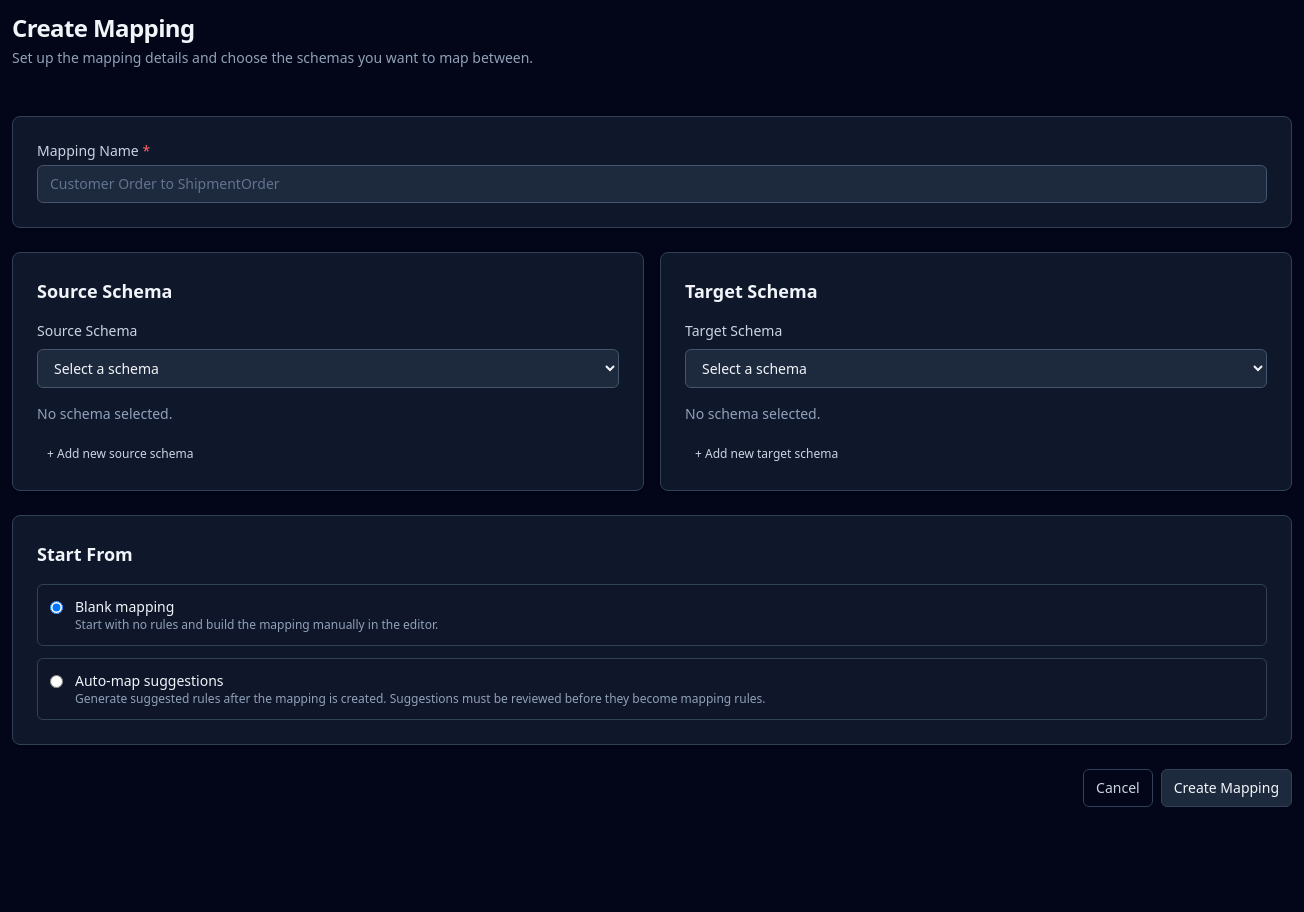
Test case: CreateMappingPage (FS-088 T-08) › AE-11: validates source and target as required fields before submit
The width and height of the screenshot is (1304, 912).
Type "Mapping With Missing Required Fields" into the field labelled "Mapping Name *". click: {"x": 652, "y": 184}
box: top-left (37, 165), bottom-right (1267, 203)
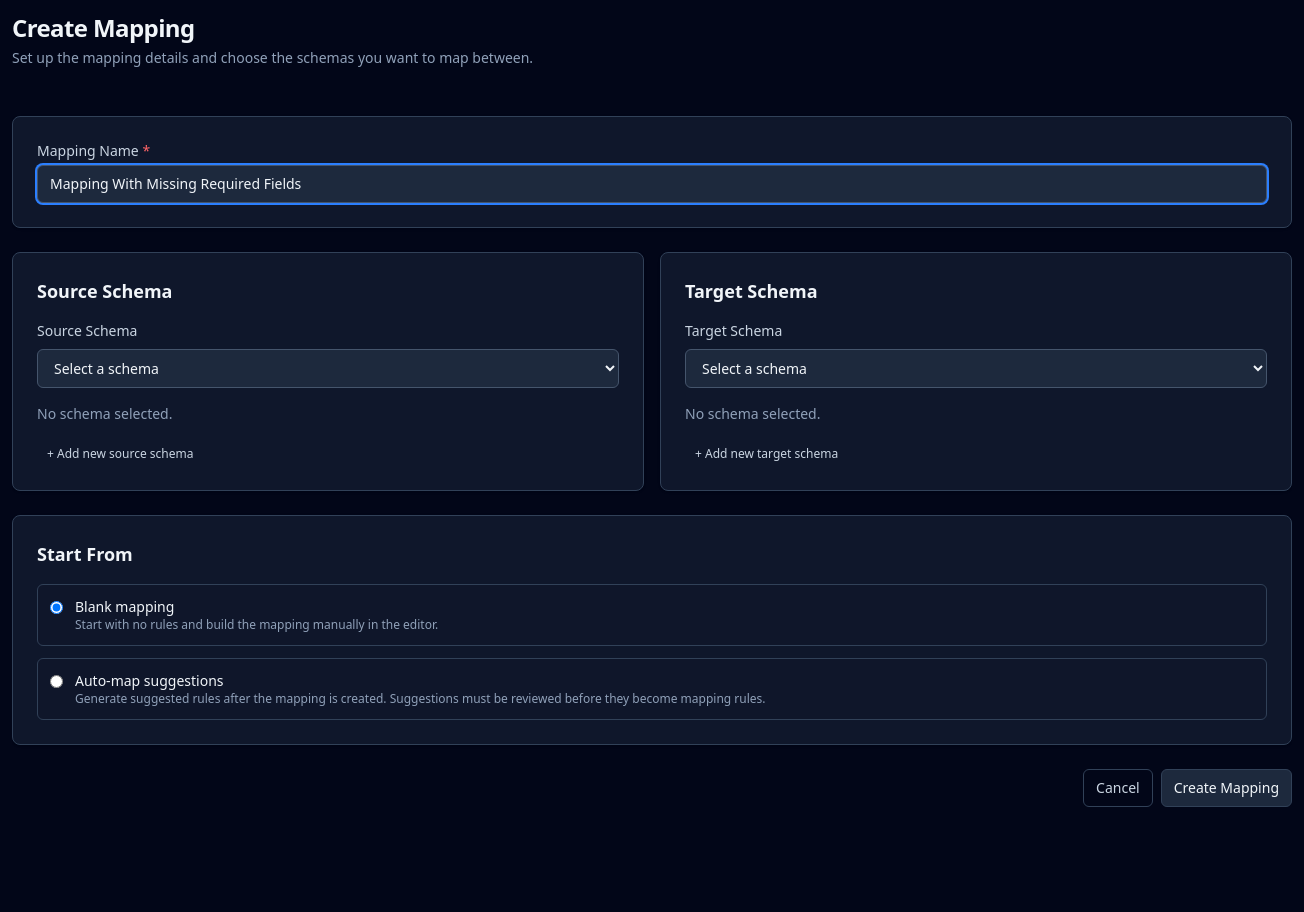
Click the button with test id "create-button". click: {"x": 1226, "y": 788}
box: top-left (1161, 769), bottom-right (1292, 807)
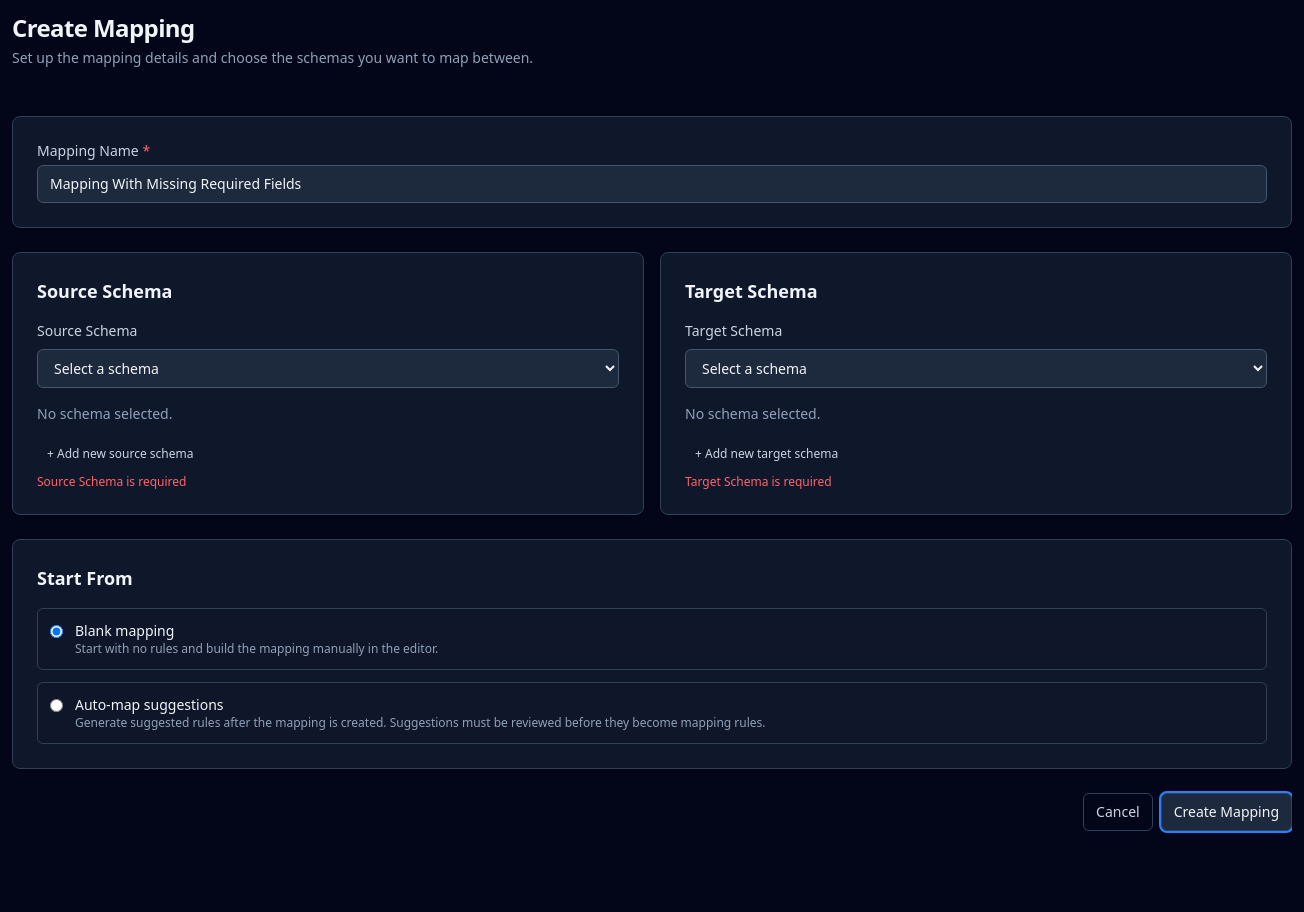
Now the message with test id "source-schema-error" reads "Source Schema is required", box top-left (37, 473), bottom-right (186, 490)
Now the message with test id "target-schema-error" reads "Target Schema is required", box top-left (685, 473), bottom-right (832, 490)
